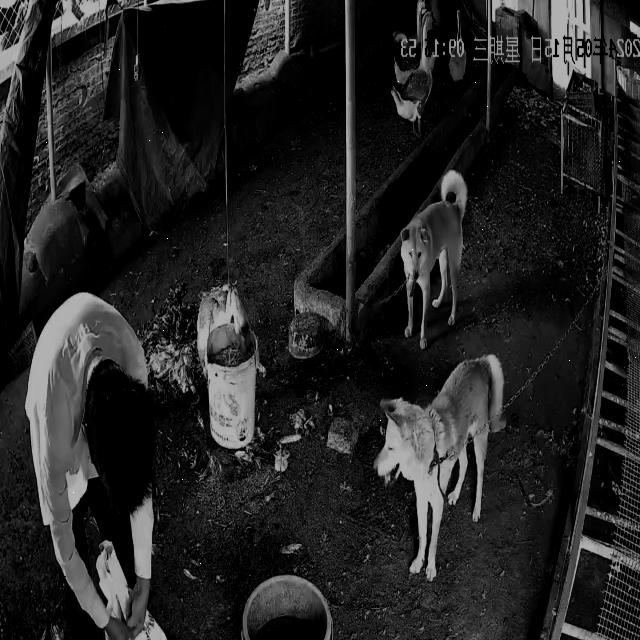dog: (375, 353, 507, 584), (401, 170, 469, 352)
